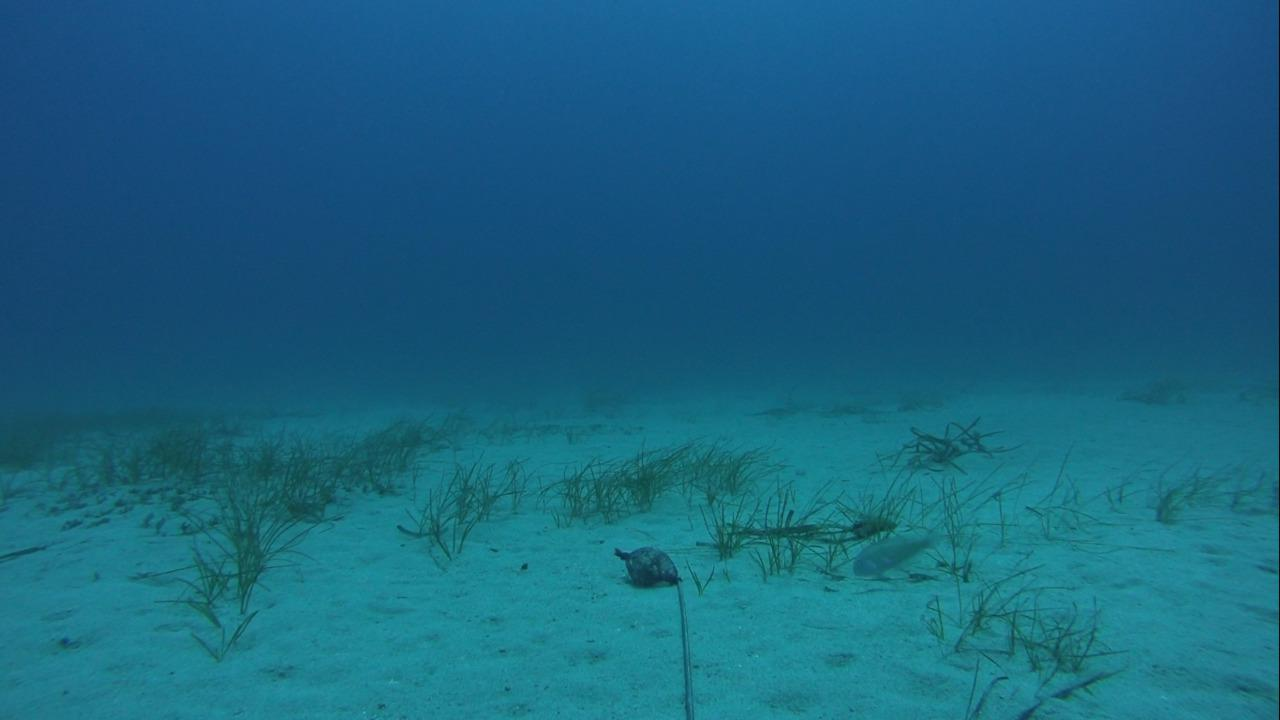raor: (850, 525, 934, 573)
